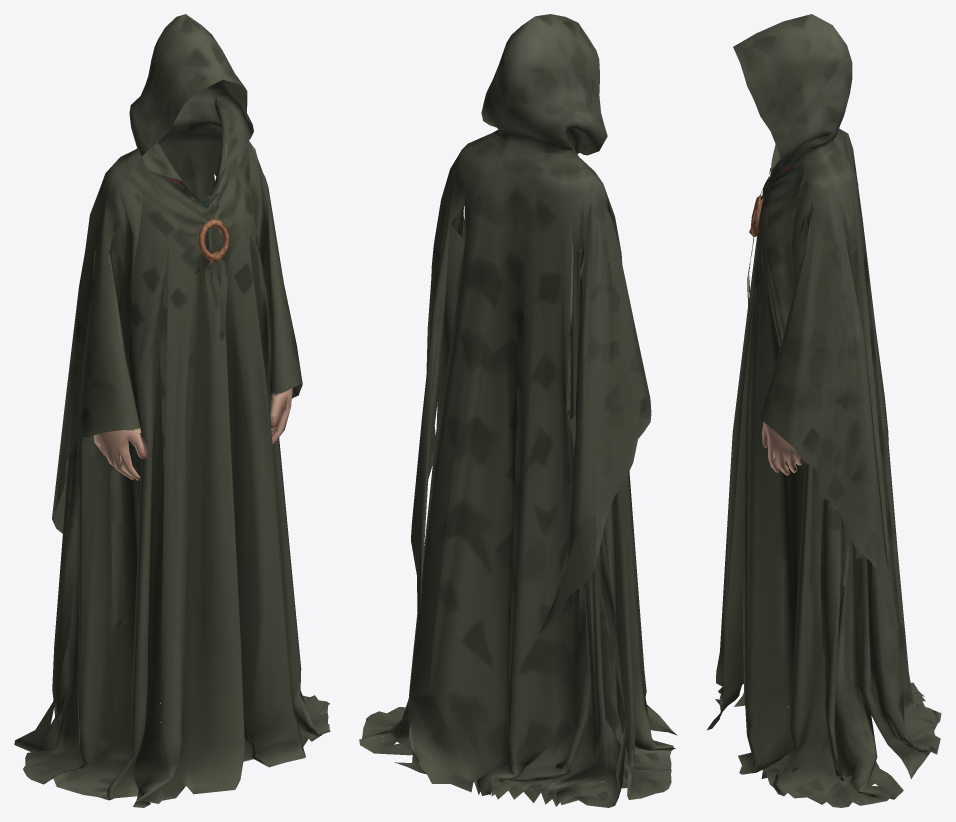
The model's file is serpents-coil-cloak_refine.glb.
The picture shows the model from 3 angles, left to right: view 1: azimuth 30°, elevation 25°; view 2: azimuth 150°, elevation 25°; view 3: azimuth 270°, elevation 25°; orthographic projection. The views are drawn at different scales.
Bounding box in the file's own units: 0.4053 × 0.9531 × 0.2808.
1 material, 1 textured.
